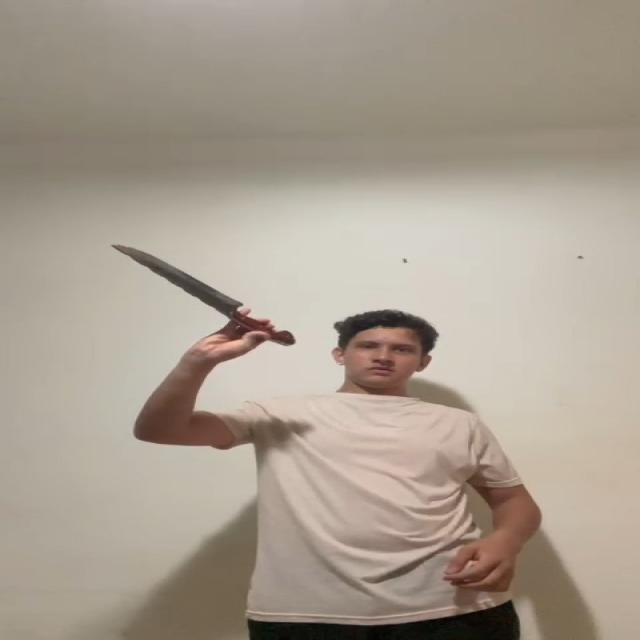knife: (113, 244, 247, 308)
